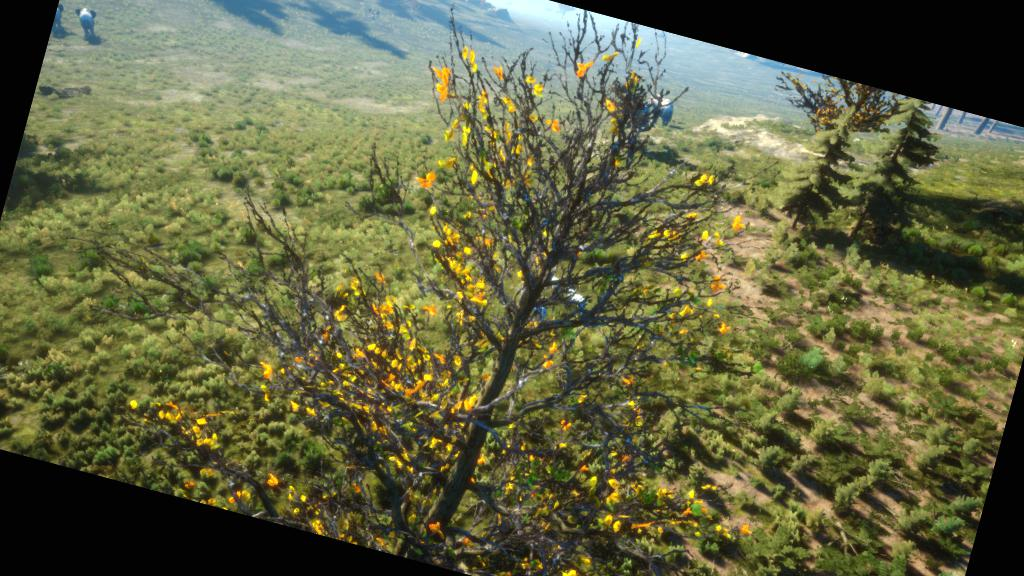elephant: (63, 0, 108, 49)
